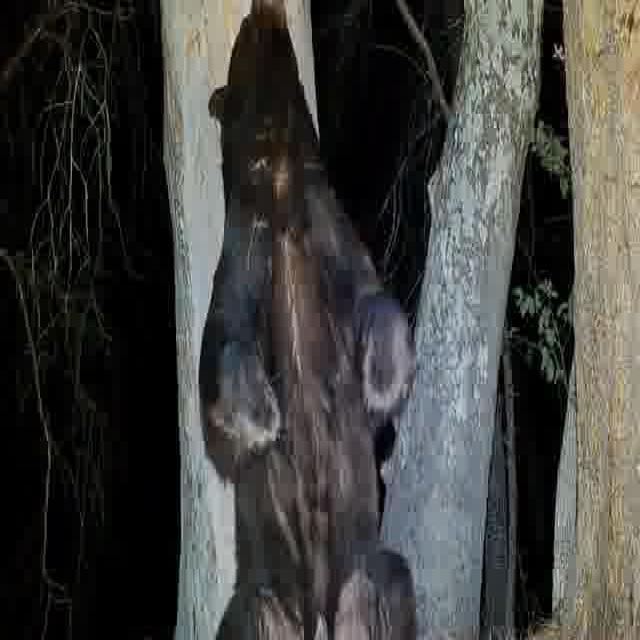bear face: (198, 0, 420, 640)
